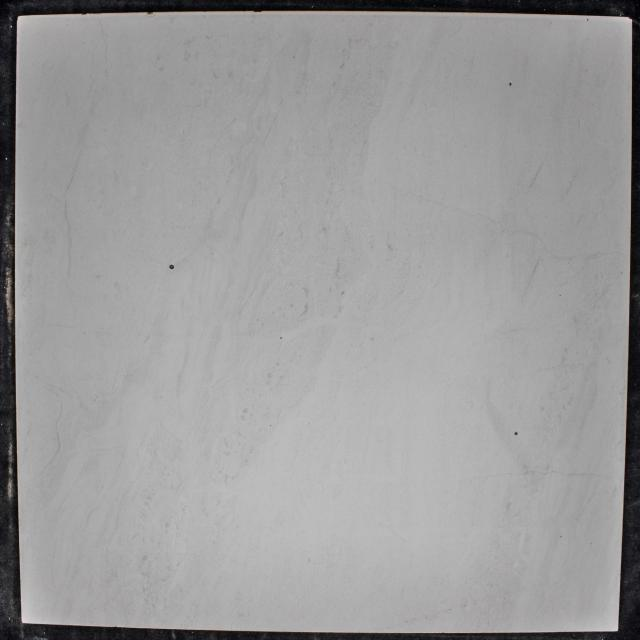edge-chipping: (253, 10, 262, 14), (146, 12, 154, 14)
hole: (168, 262, 175, 270), (508, 81, 513, 87), (513, 431, 519, 436)
